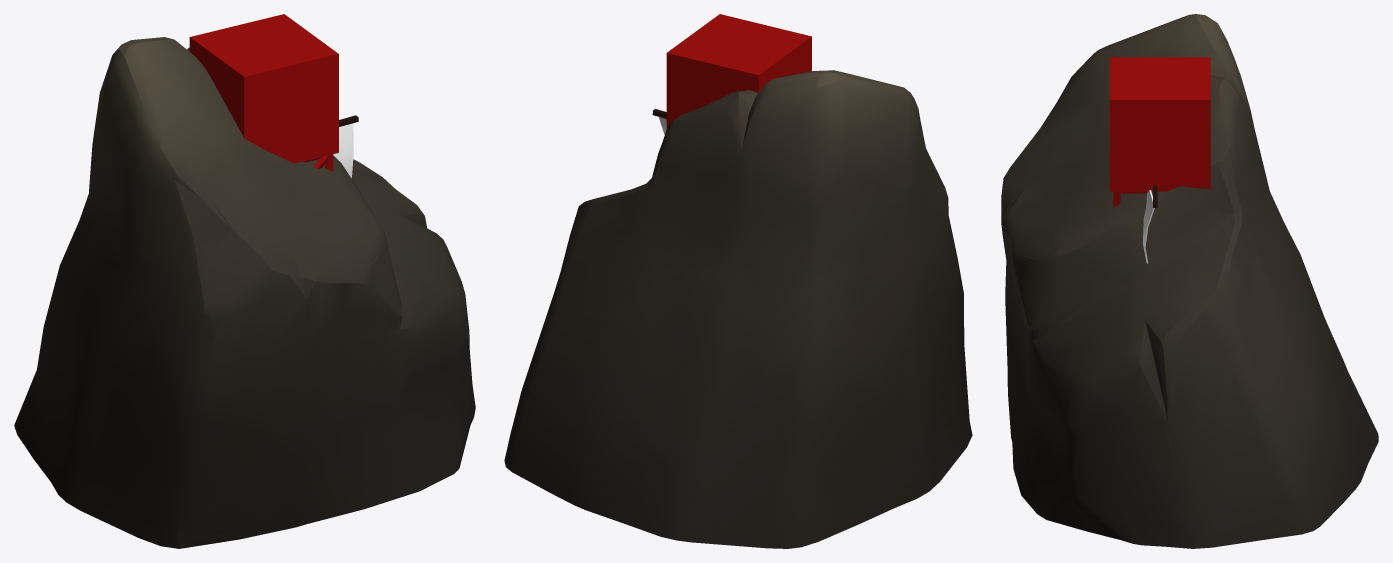
File: sand_floats.gltf
3 views of the same model, side by side, from view 1: azimuth 30°, elevation 25°; view 2: azimuth 150°, elevation 25°; view 3: azimuth 270°, elevation 25° (orthographic). The views are drawn at different scales.
Parts seen in each view (by area): view 1: Rock_01, Buoy_01, Boat_01; view 2: Rock_01, Buoy_01; view 3: Rock_01, Buoy_01, Boat_01.
Part boxes in pixels (x1,y1,x2,y2): Rock_01: [14, 37, 475, 548]; Buoy_01: [189, 14, 338, 171]; Boat_01: [333, 115, 358, 178]; Rock_01: [504, 70, 972, 548]; Buoy_01: [666, 14, 811, 128]; Rock_01: [1001, 14, 1378, 548]; Buoy_01: [1109, 57, 1210, 207]; Boat_01: [1142, 185, 1157, 263].
Bounding box in the file's own units: 0.936 × 0.9656 × 0.8381.
